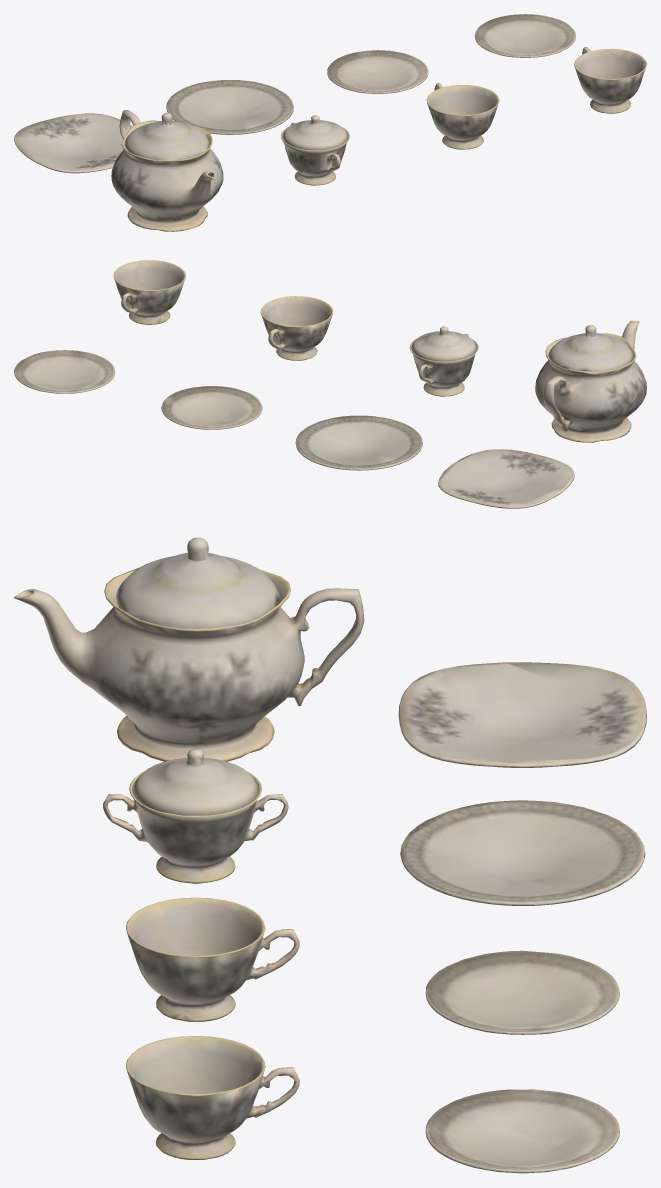
Rendered from tea_set_01.glb.
3 renders of one model, top to bottom at view 1: azimuth 30°, elevation 25°; view 2: azimuth 150°, elevation 25°; view 3: azimuth 270°, elevation 25°, orthographic. The views are drawn at different scales.
Parts seen in each view (by area): view 1: tea_set_01_plate_large_square_01; view 2: tea_set_01_plate_large_square_01; view 3: tea_set_01_plate_large_square_01.
Part boxes in pixels (x1,y1,x2,y2): tea_set_01_plate_large_square_01: (14,14,646,231); tea_set_01_plate_large_square_01: (14,260,646,508); tea_set_01_plate_large_square_01: (14,537,646,1173).
Bounding box in the file's own units: 0.9183 × 0.165 × 0.4839.
Materials: 1 (1 with a texture image).
